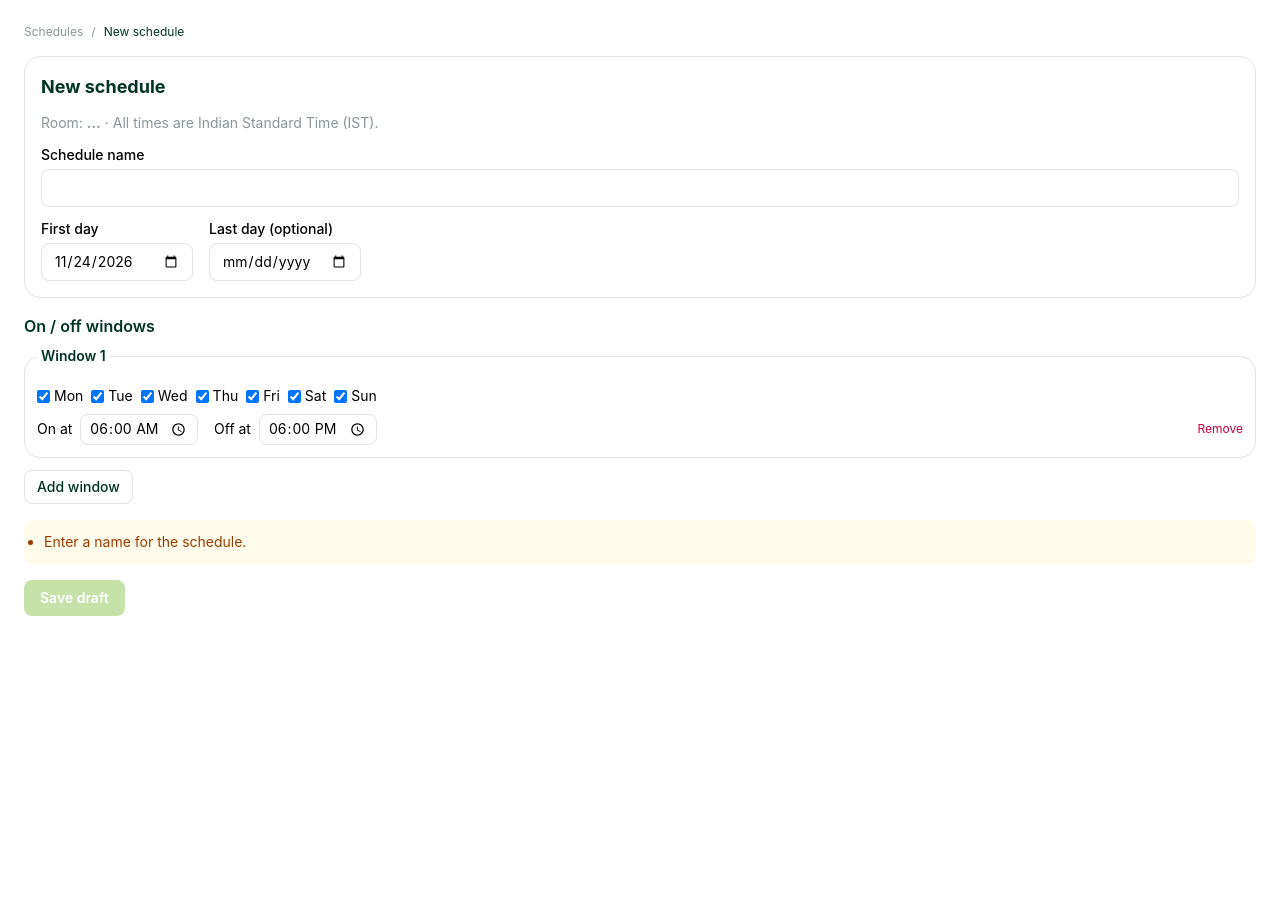
Scenario: SchedulePage editor › creates a schedule (POST) and opens it
Type "Daily light" into the field labelled "Schedule name" at {"x": 640, "y": 188}, box x1=41 y1=169 x2=1239 y2=207
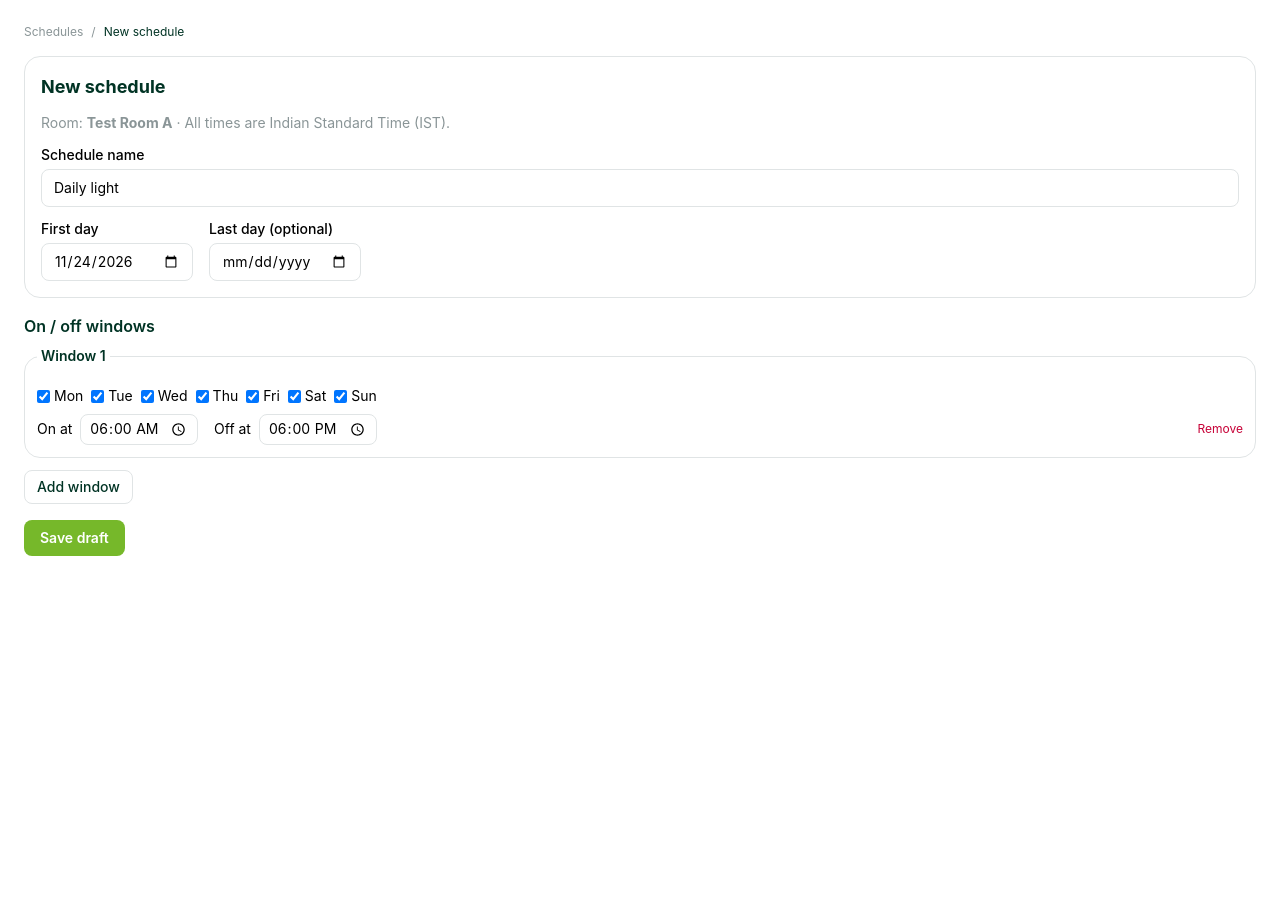
Type "2026-11-01" into the date field labelled "First day" at {"x": 117, "y": 262}, box x1=41 y1=243 x2=193 y2=281
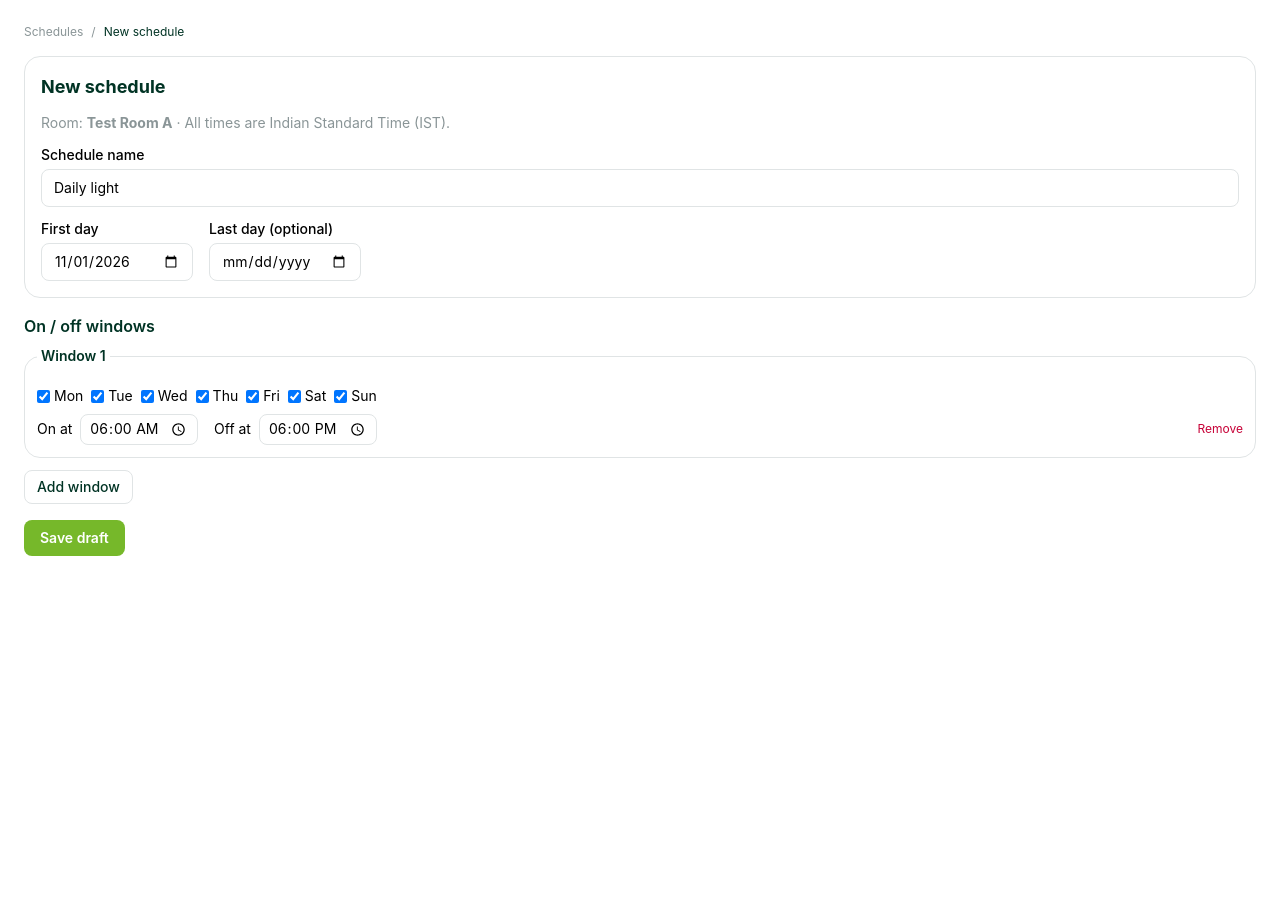
Click the button "Save draft" at {"x": 74, "y": 538}, box x1=24 y1=520 x2=125 y2=556
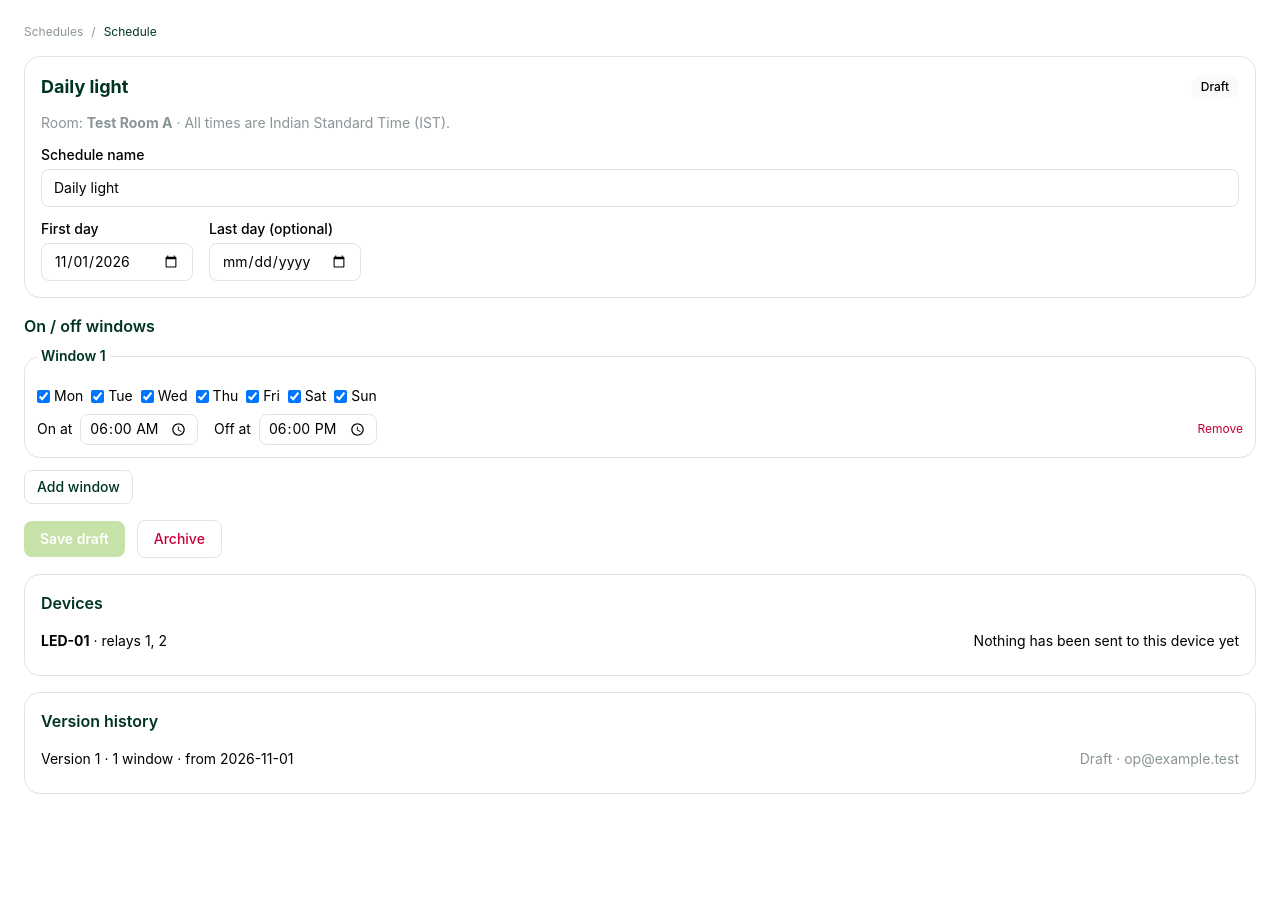
Result: the text with test id "schedule-status" reads "Draft" at x1=1201 y1=79 x2=1229 y2=94
